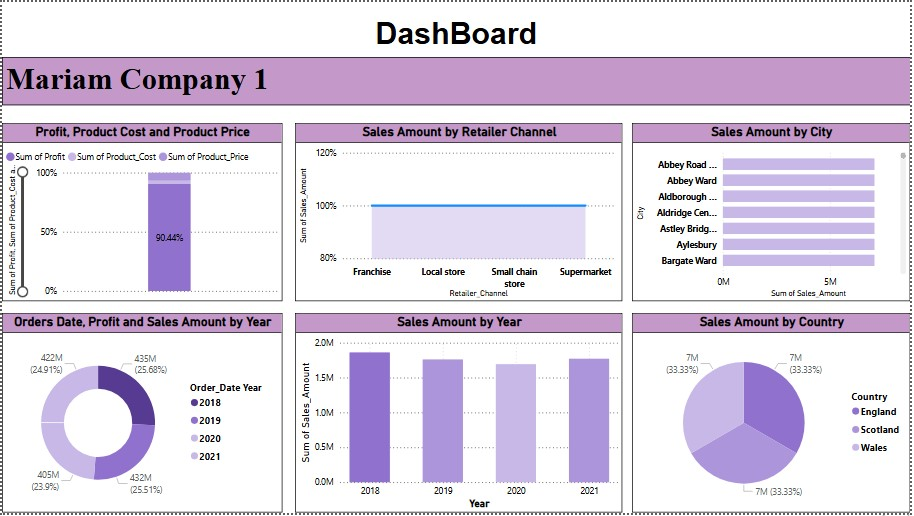

The dashboard page shown, as its layout file describes it:
{"tool":"powerbi","page":{"name":"Mariam Wael DashBoard 1","canvas":[1280,720],"ordinal":0},"visuals":[{"type":"hundredPercentStackedColumnChart","title":"Profit, Product Cost and Product Price","fields":{"Y":["Orders.Profit","Orders.Product_Cost","Orders.Product_Price"]},"box":[0,170.7,394.7,250.7],"z":0},{"type":"donutChart","title":"Orders Date, Profit and Sales Amount by Year","fields":{"Category":["Orders.Order_Date.Variation.Date Hierarchy.Year","Orders.Order_Date.Variation.Date Hierarchy.Quarter","Orders.Order_Date.Variation.Date Hierarchy.Month","Orders.Order_Date.Variation.Date Hierarchy.Day"],"Y":["Orders.Order_YearMonth"]},"box":[0,438.7,394.7,281.3],"z":1000},{"type":"pieChart","title":"Sales Amount by Country","fields":{"Y":["Orders.Sales_Amount"],"Category":["Retailers.Country"]},"box":[888,438.7,392,281.3],"z":2000},{"type":"columnChart","title":"Sales Amount by Year","fields":{"Category":["Orders.Order_Date.Variation.Date Hierarchy.Year","Orders.Order_Date.Variation.Date Hierarchy.Quarter","Orders.Order_Date.Variation.Date Hierarchy.Month","Orders.Order_Date.Variation.Date Hierarchy.Day"],"Y":["Orders.Sales_Amount"]},"box":[412,438.7,461.3,281.3],"z":3000},{"type":"hundredPercentStackedAreaChart","title":"Sales Amount by Retailer Channel","fields":{"Category":["Retailers.Retailer_Channel"],"Y":["Orders.Sales_Amount"]},"box":[412,170.7,461.3,250.7],"z":4000},{"type":"clusteredBarChart","title":"Sales Amount by City","fields":{"Y":["Orders.Sales_Amount"],"Category":["Retailers.City"]},"box":[888,170.7,392,250.7],"z":5000},{"type":"textbox","box":[0,16,1280,61.3],"z":6000},{"type":"textbox","box":[0,77.3,1280,68],"z":7000}]}

Visuals, with their boxes in screenshot pixels (x1, y1, x2, y2), scaled from the page's 1280x720 canvas onto the 914x516 screenshot:
"Profit, Product Cost and Product Price" hundredPercentStackedColumnChart: 0, 122, 282, 302
"Orders Date, Profit and Sales Amount by Year" donutChart: 0, 314, 282, 515
"Sales Amount by Country" pieChart: 634, 314, 913, 515
"Sales Amount by Year" columnChart: 294, 314, 624, 515
"Sales Amount by Retailer Channel" hundredPercentStackedAreaChart: 294, 122, 624, 302
"Sales Amount by City" clusteredBarChart: 634, 122, 913, 302
textbox: 0, 11, 913, 55
textbox: 0, 55, 913, 104
